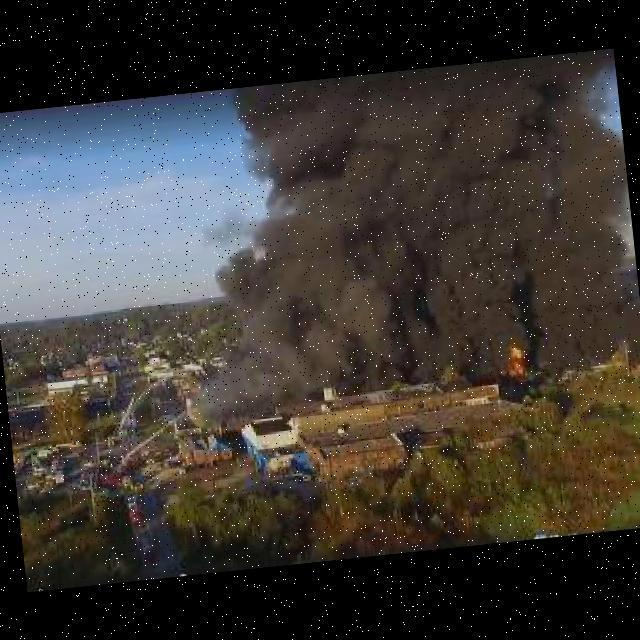Fire: (495, 339, 533, 380)
Smoke: (157, 48, 640, 412)
